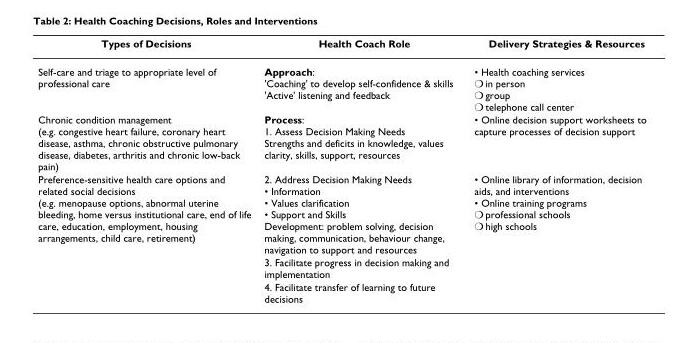table: (37, 36, 645, 304)
table column: (37, 36, 257, 304), (257, 36, 462, 304), (462, 36, 645, 304)
table column header: (37, 36, 645, 56)
table row: (37, 172, 645, 255), (37, 112, 645, 172), (37, 56, 645, 112), (37, 279, 645, 304), (37, 255, 645, 279), (37, 36, 645, 56)
table spanning cell: (37, 172, 257, 304)
